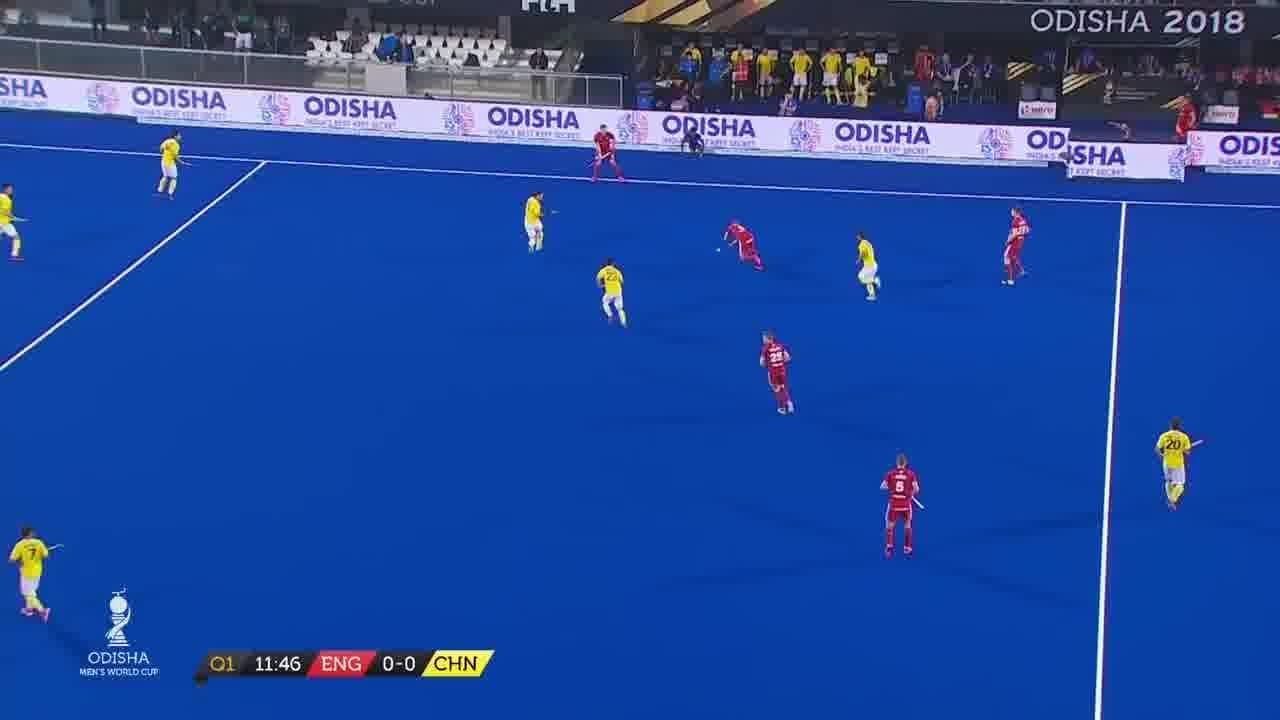ball: (705, 238, 733, 262)
